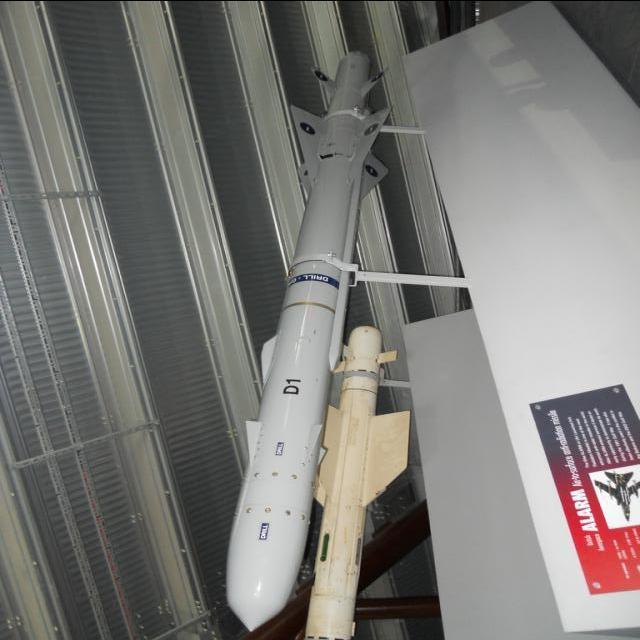Missile: (197, 20, 400, 640), (299, 320, 427, 640), (598, 470, 639, 519)
